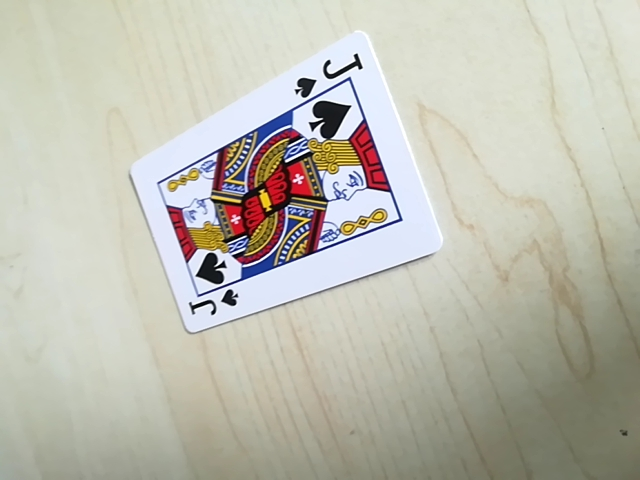ht j: (290, 50, 368, 99), (182, 278, 246, 327)
